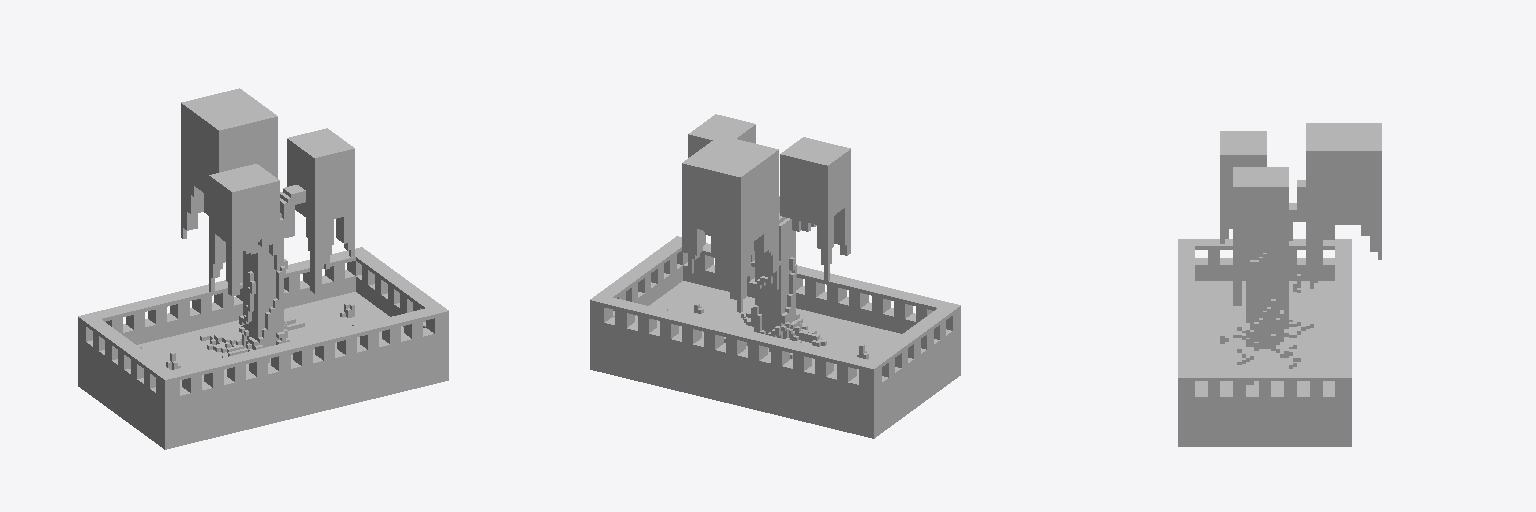
File: SakuraTree.obj
3 views of the same model, side by side, from view 1: azimuth 30°, elevation 25°; view 2: azimuth 150°, elevation 25°; view 3: azimuth 270°, elevation 25° (orthographic).
Visible parts, largest first — view 1: object 1; view 2: object 1; view 3: object 1.
Boxes of the visible parts, x1,y1,x2,y2 form: object 1: [78, 88, 448, 449]; object 1: [590, 114, 960, 438]; object 1: [1178, 123, 1381, 446].
Size of the model in its own units: 7.7 by 6.3 by 4.8.